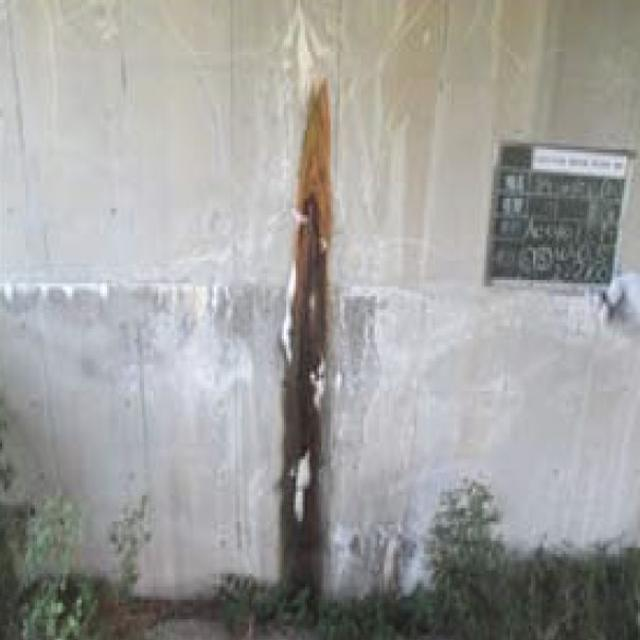leakage: (264, 87, 366, 592)
